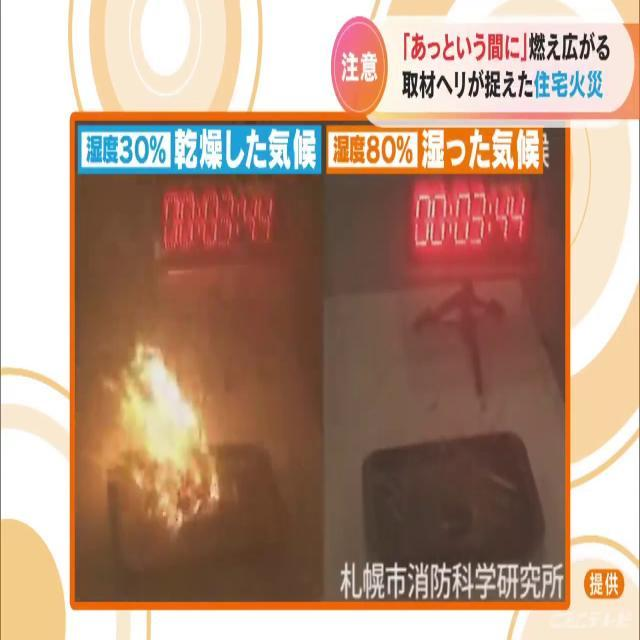Fire: (97, 332, 231, 539)
